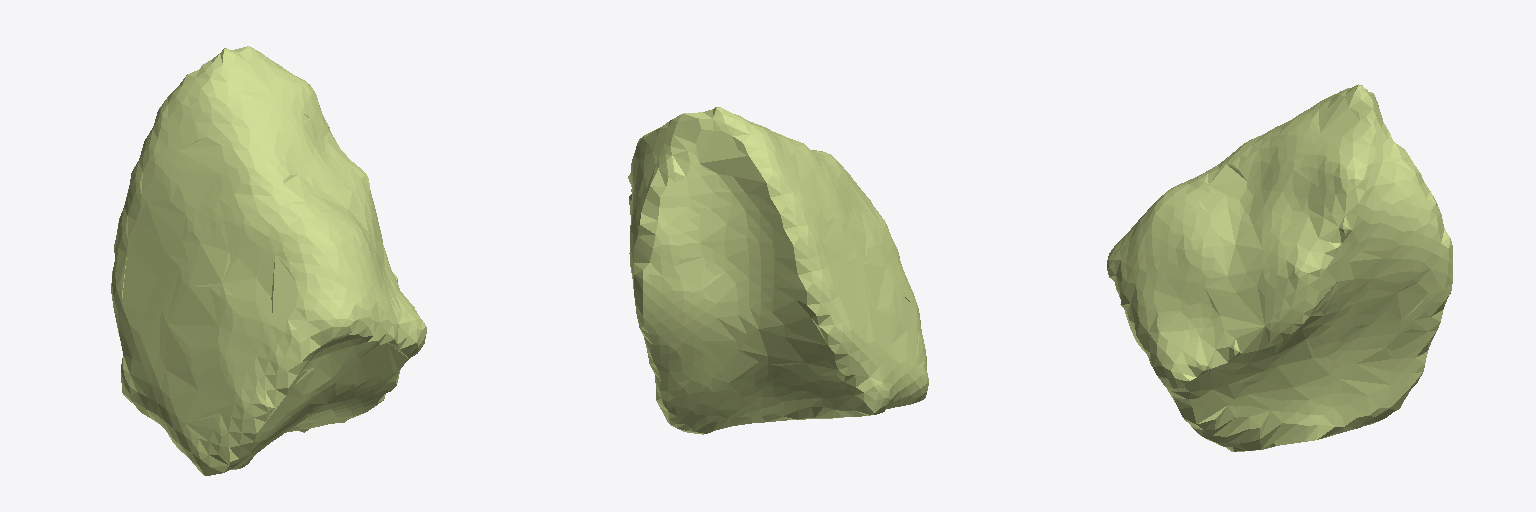
Rendered from Model_10087_LH__Auditory_cortex__rostrotemporal_part_(AuRT).obj.
3 renders of one model, left to right at view 1: azimuth 30°, elevation 25°; view 2: azimuth 150°, elevation 25°; view 3: azimuth 270°, elevation 25°, orthographic.
Size of the model in its own units: 1.83 by 2.48 by 2.22.